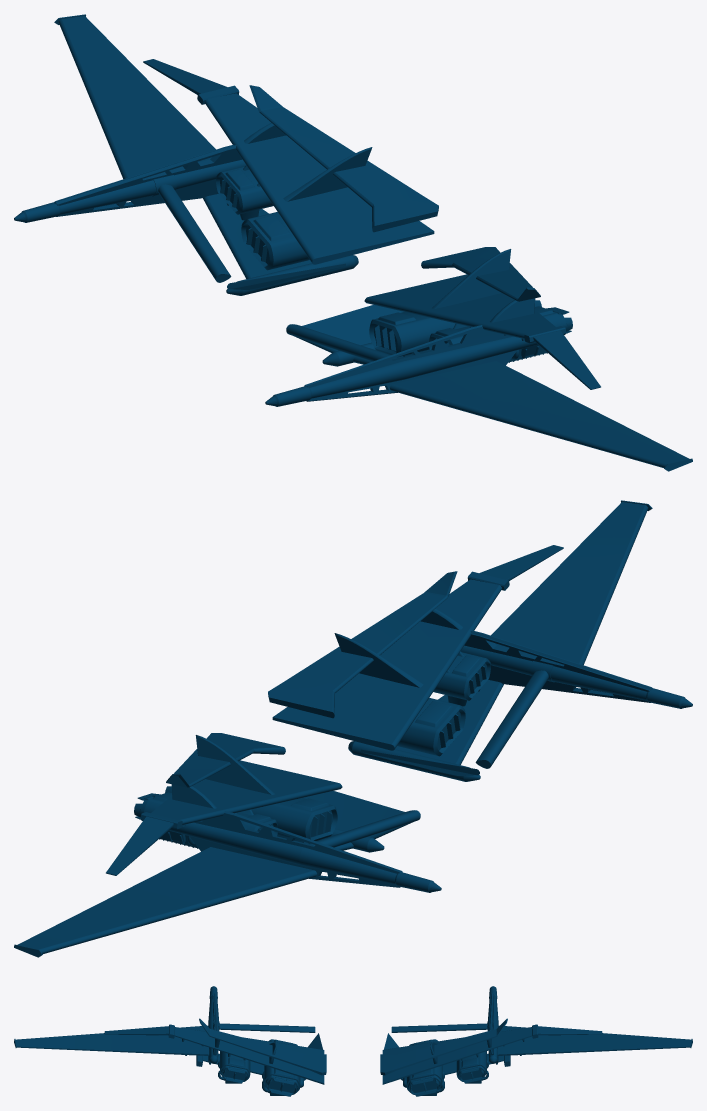
File: SSv1_BWings_v2.FBX
3 renders of one model, top to bottom at view 1: azimuth 30°, elevation 25°; view 2: azimuth 150°, elevation 25°; view 3: azimuth 270°, elevation 25°, orthographic. The views are drawn at different scales.
Visible parts, largest first — view 1: SSv1_BWings_v2; view 2: SSv1_BWings_v2; view 3: SSv1_BWings_v2.
Part boxes in pixels (x1,y1,x2,y2): SSv1_BWings_v2: (14, 14, 692, 471); SSv1_BWings_v2: (14, 500, 692, 957); SSv1_BWings_v2: (14, 986, 692, 1096).
Size of the model in its own units: 67.38 by 23.59 by 218.
